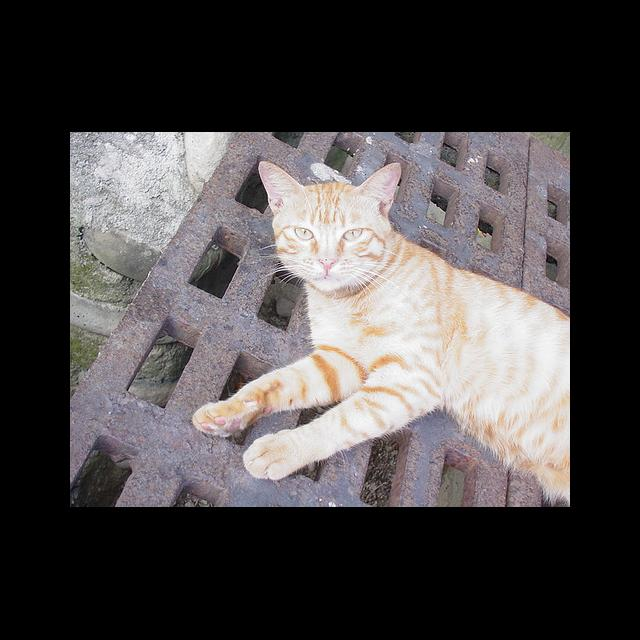animals: (261, 162, 397, 268)
